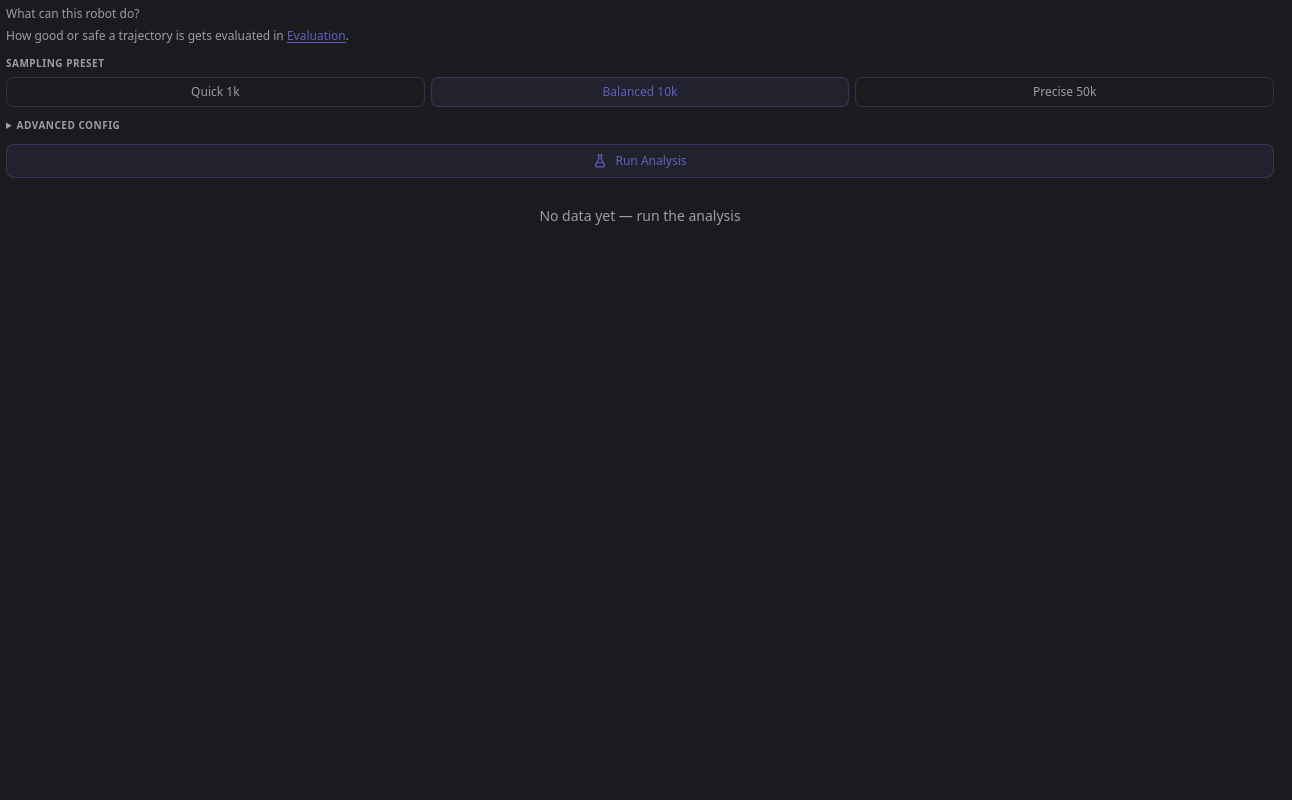
Test case: WorkspaceAnalysis — explicit trigger runs 3 mutations (spec: Explicit trigger runs sampling) › defaults to the first feature that has data; failed features show an empty state
Click the button "Run Analysis" at (640, 161), box [6,144,1274,178]
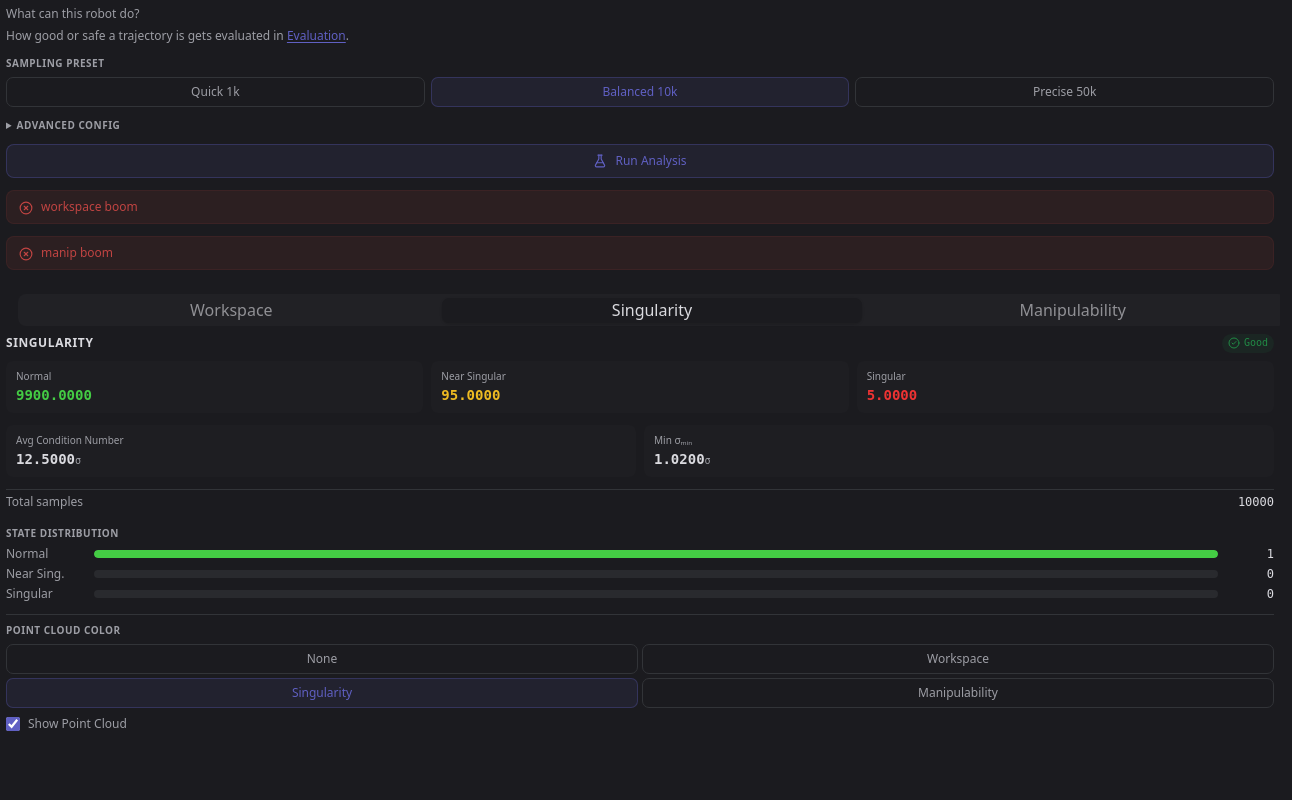
expect the heading "Singularity" is shown: met, box [6,336,94,352]
Click the tab "Workspace" at (231, 310), box [21,298,442,323]
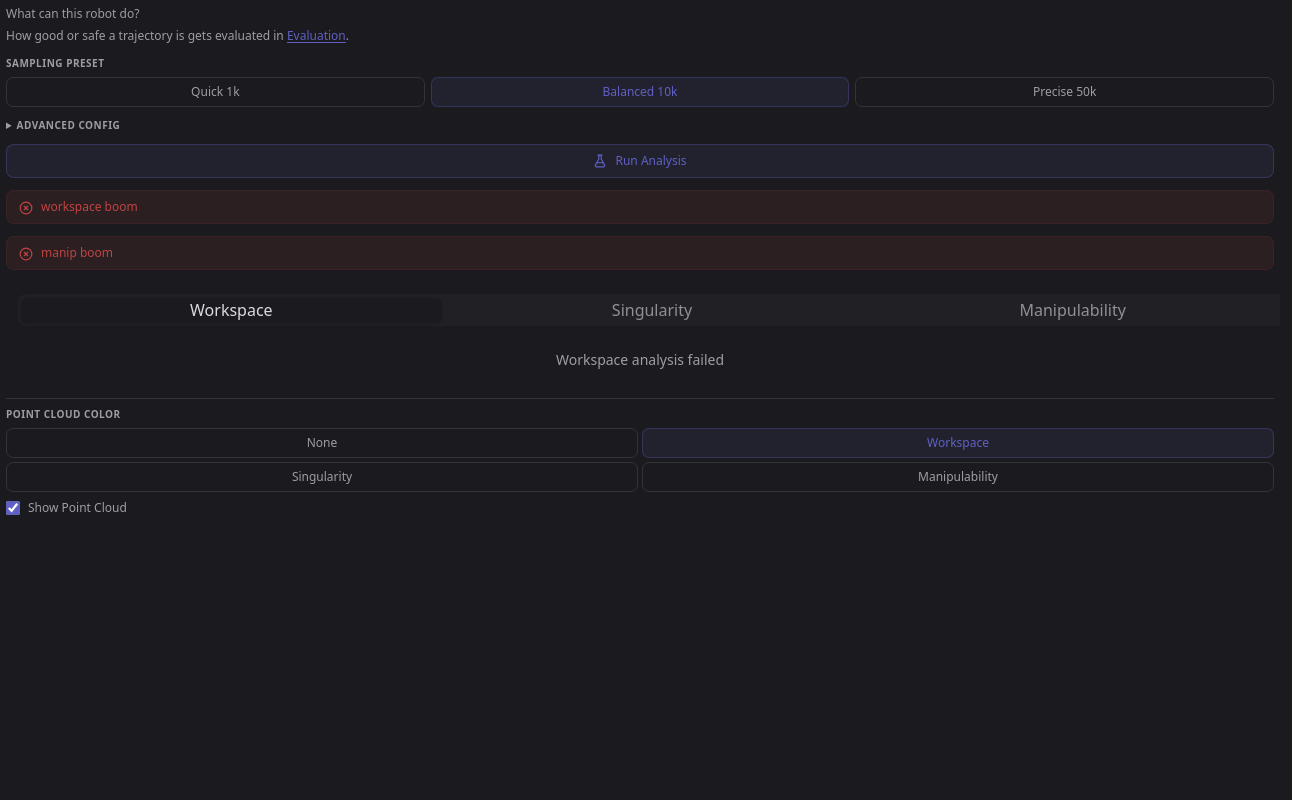
expect the text "Workspace analysis failed" is shown: met, box [556,350,724,369]
